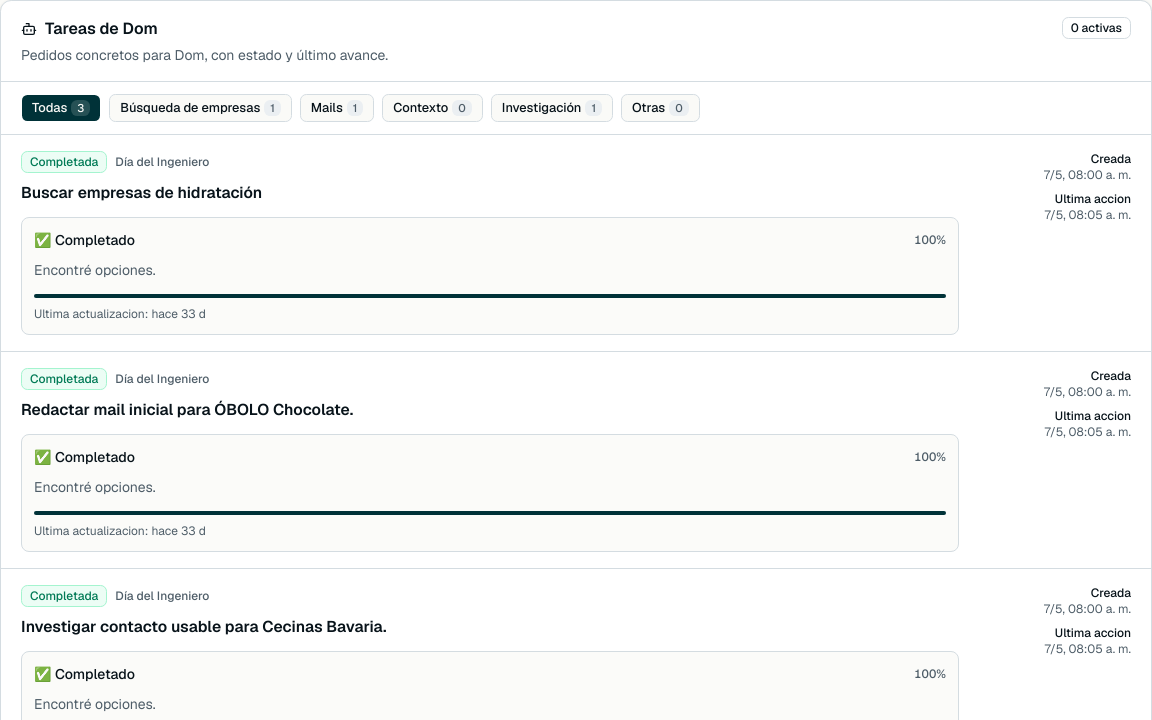
Test case: DomTaskList › filters tasks with visible section buttons
Expected: the button "Todas 3" is shown, [21,94,101,122]
Expected: the button "Búsqueda de empresas 1" is shown, [109,94,292,122]
Step 1. Click the button "Mails 1" → (337, 108), box [300,94,374,122]
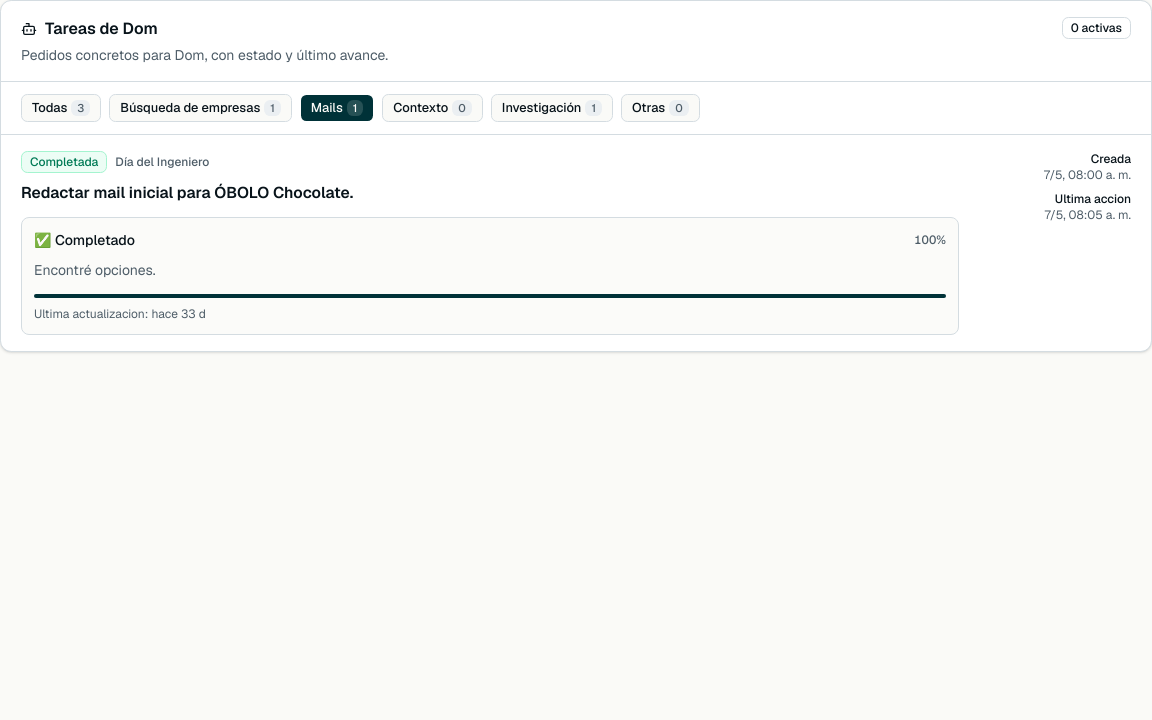
Expected: the heading "Redactar mail inicial para ÓBOLO Chocolate." is shown, [21,182,353,203]
Expected: the heading "Buscar empresas de hidratación" is gone
Expected: the heading "Investigar contacto usable para Cecinas Bavaria." is gone
Step 2. Click the button "Búsqueda de empresas 1" → (201, 108), box [109,94,292,122]
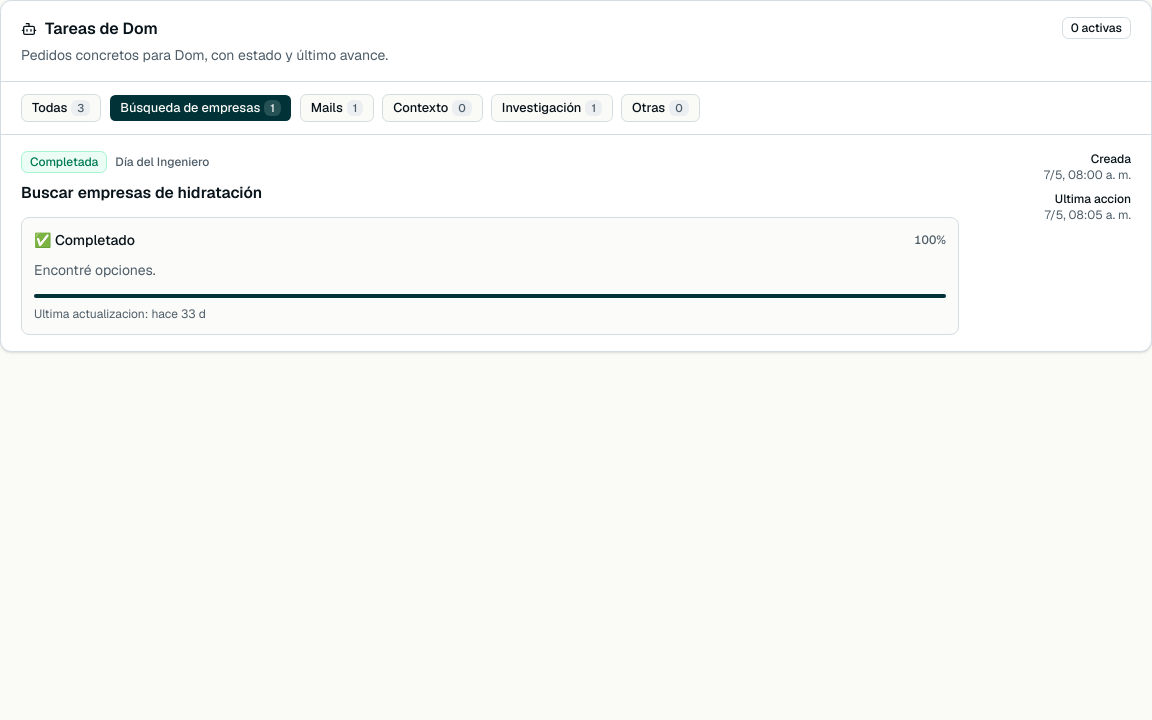
Expected: the heading "Buscar empresas de hidratación" is shown, [21,182,262,203]
Expected: the heading "Redactar mail inicial para ÓBOLO Chocolate." is gone
